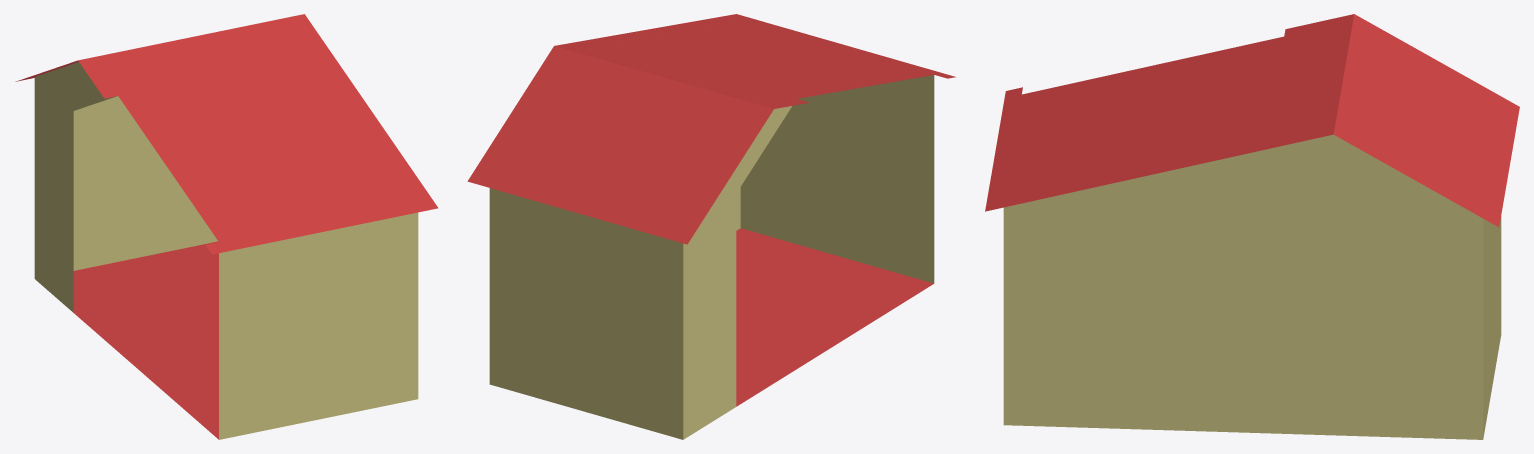
The picture shows the model from 3 angles, left to right: view 1: azimuth 30°, elevation 25°; view 2: azimuth 150°, elevation 25°; view 3: azimuth 270°, elevation 25°; orthographic projection. The views are drawn at different scales.
Bounding box in the file's own units: 9.34 × 15.47 × 9.83.
